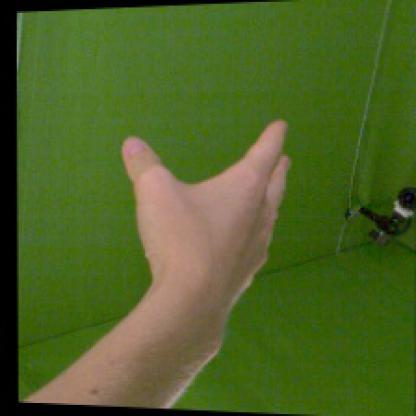Hand: (123, 118, 292, 328)
